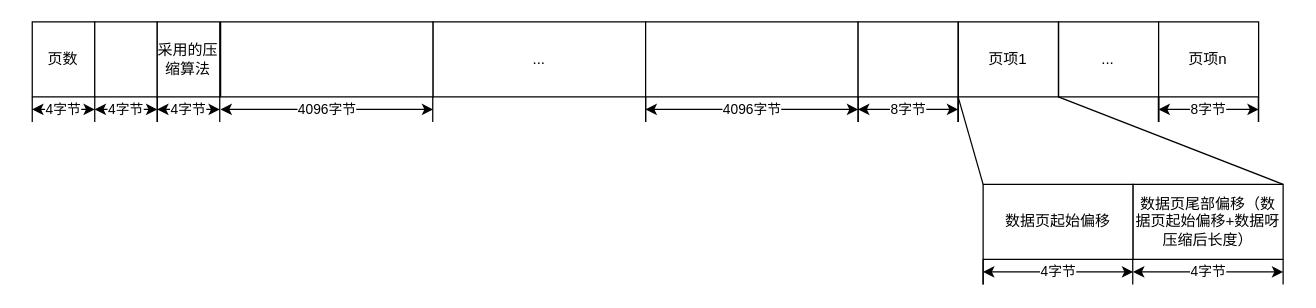
The diagram is 1316 pixels wide and 308 high, and some of its shapes have lost their labels. Here are the shapes that lost their labels. From the top down, the centre of each, then its label:
At (x=125, y=59): "起始页项在文件中的偏移".
At (x=326, y=59): "数据页1".
At (x=751, y=59): "数据页n".
At (x=907, y=59): "页项0".
